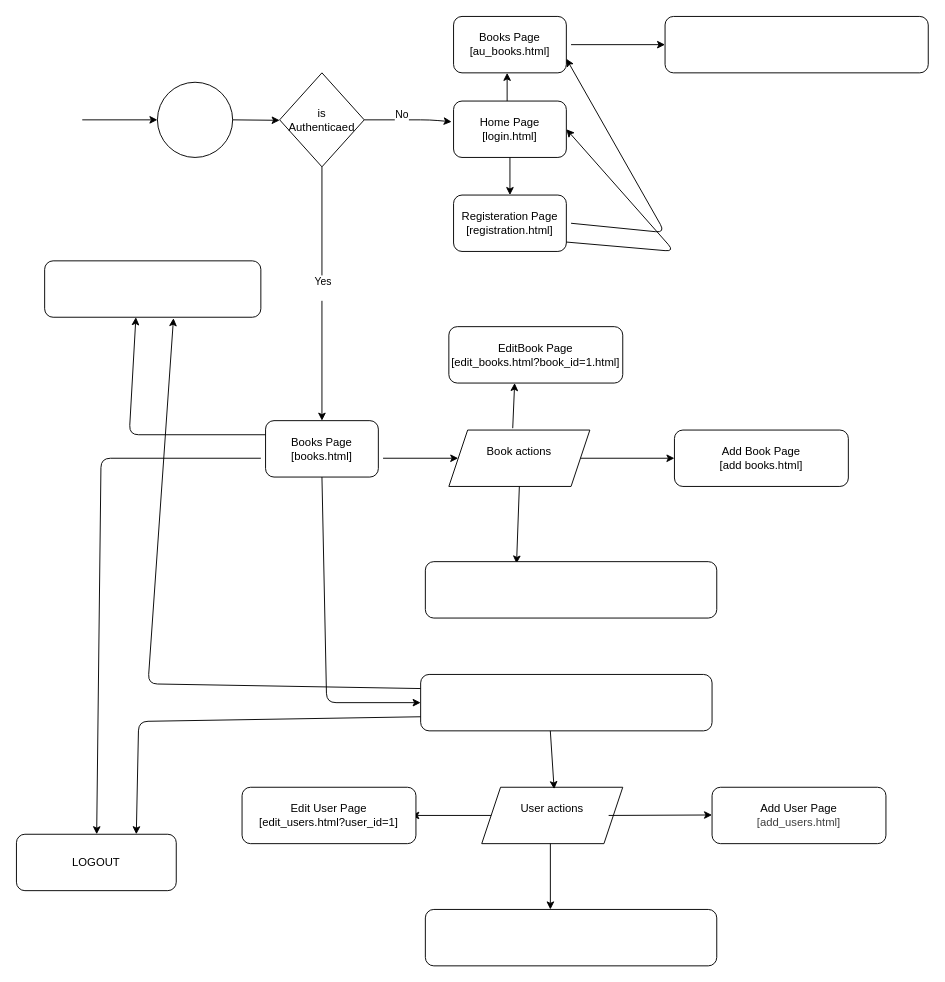
This 945x982 diagram has some shape labels left out. Each missing label, with the centre of its shape:
"START" goes at (x=195, y=119).
"User Me Page [users.html?user_id=1&action=view]" goes at (x=152, y=288).
"View Book Details Page [books.html?book_id=1.htmll&action=view]" goes at (x=570, y=589).
"View Book Page [ /users.html ]" goes at (x=566, y=702).
"View Book Page [au_books.html?book_id=1.html&action=view]" goes at (x=796, y=44).
"View User Details Page [/users.html?user_id=1&action=view]" goes at (x=570, y=937).
